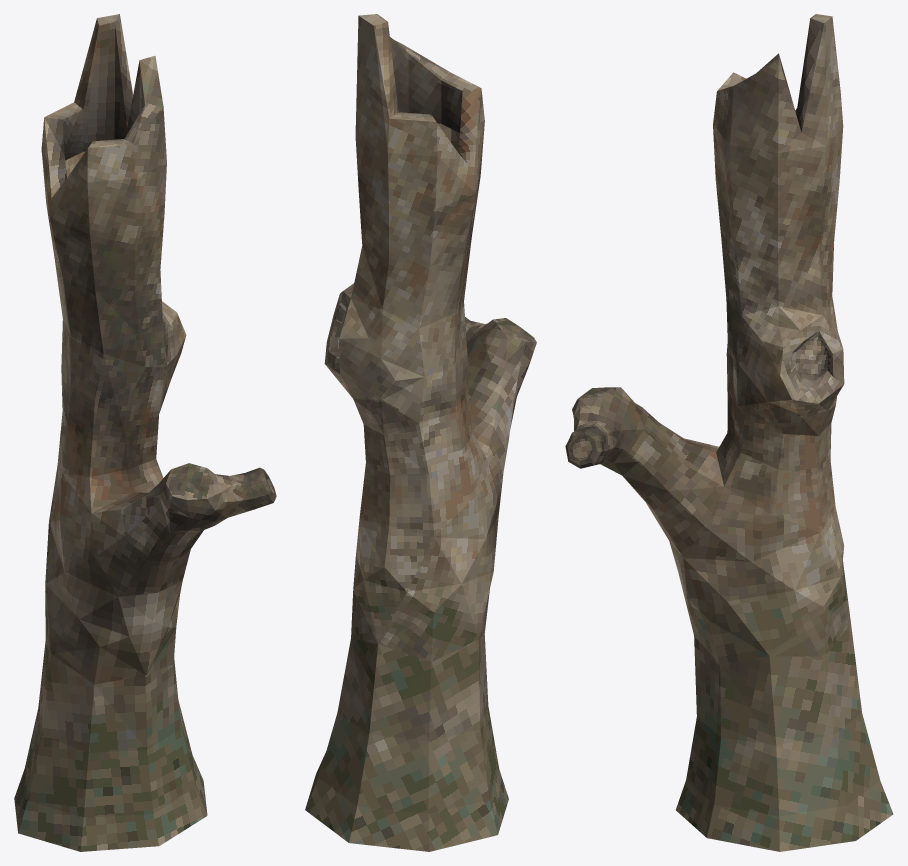
The model's file is Trunk_02.glb.
3 renders of one model, left to right at view 1: azimuth 30°, elevation 25°; view 2: azimuth 150°, elevation 25°; view 3: azimuth 270°, elevation 25°, orthographic. The views are drawn at different scales.
Visible parts, largest first — view 1: Trunk_02; view 2: Trunk_02; view 3: Trunk_02.
Boxes of the visible parts, left/top/right/bottom form: Trunk_02: left=14, top=14, right=276, bottom=851; Trunk_02: left=305, top=14, right=536, bottom=851; Trunk_02: left=565, top=14, right=893, bottom=851.
Bounding box in the file's own units: 2.74 × 11.24 × 4.13.
Materials: 1 (1 with a texture image).
